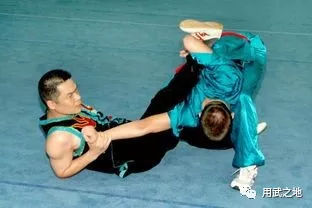fall: (49, 21, 257, 185)
